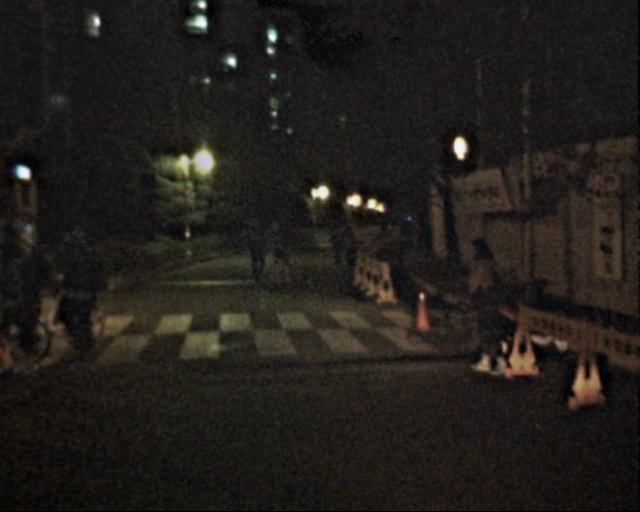person: (453, 237, 517, 380), (56, 219, 114, 368), (238, 215, 265, 282), (260, 218, 286, 282), (322, 220, 344, 273), (334, 224, 354, 273)
